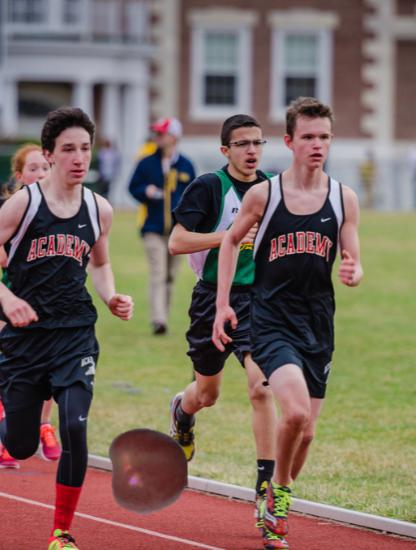Cherry: (106, 428, 192, 514)
